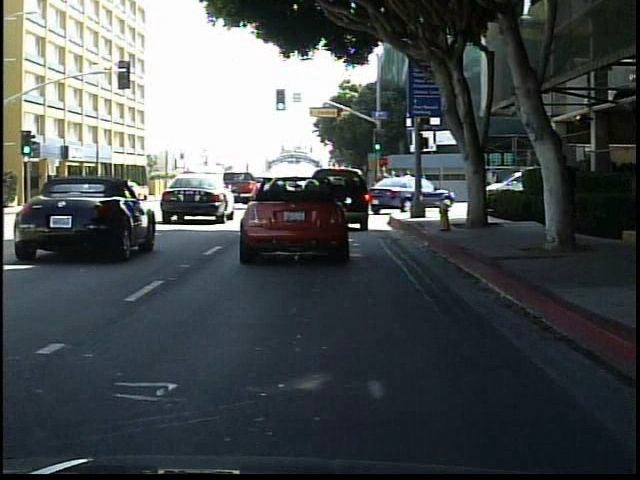person: (546, 150, 571, 240), (376, 165, 397, 211), (117, 176, 135, 203)
